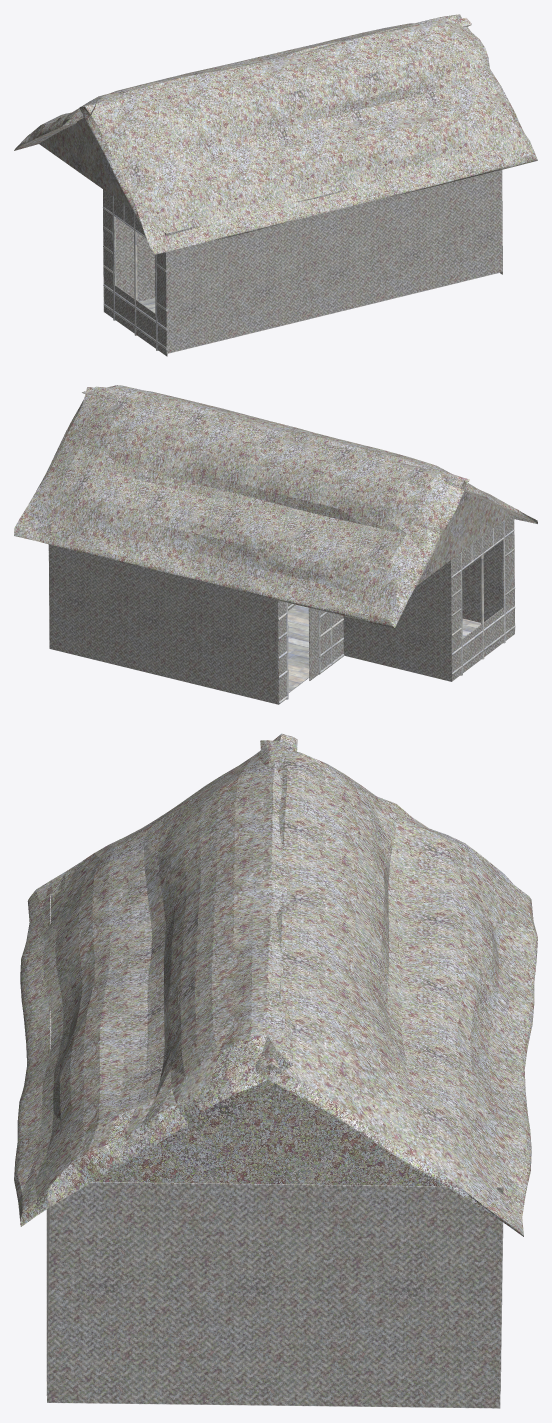
The picture shows the model from 3 angles, top to bottom: view 1: azimuth 30°, elevation 25°; view 2: azimuth 150°, elevation 25°; view 3: azimuth 270°, elevation 25°; orthographic projection. The views are drawn at different scales.
Parts seen in each view (by area): view 1: Meshpart2, LongWall6, LongWall1, Meshpart1, Wall1, Wall6, Wedge3, MidTile2, MidTile1, WindowDivider2, WindowDivider1, WindowDivider9 (+5 smaller); view 2: Meshpart1, Wall9, Wall8, Wall1, Wall2, Meshpart2, LongWall1, LongWall2, Wedge1, MidTile2, MidTile1, Door8 (+12 smaller); view 3: Wall20, Wall15, Meshpart1, Meshpart2, Wedge4, Wedge2.
Part boxes in pixels (x1,y1,x2,y2): Meshpart2: (79,14,537,254); LongWall6: (166,170,502,353); LongWall1: (165,170,502,353); Meshpart1: (14,17,471,150); Wall1: (103,190,155,311); Wall6: (104,218,155,301); Wedge3: (39,117,102,188); MidTile2: (104,280,166,356); MidTile1: (104,281,167,356); WindowDivider2: (103,209,114,286); WindowDivider1: (103,209,114,285); WindowDivider9: (155,252,165,323); Meshpart1: (14,387,469,627); Wall9: (49,544,278,704); Wall8: (49,545,278,704); Wall1: (343,560,452,681); Wall2: (343,560,451,681); Meshpart2: (82,385,537,523); LongWall1: (462,526,514,631); LongWall2: (462,541,514,622); Wedge1: (451,491,511,558); MidTile2: (452,603,514,680); MidTile1: (452,603,514,680); Door8: (309,608,343,680); Wall20: (47,1182,503,1408); Wall15: (47,1182,503,1408); Meshpart1: (255,740,537,1236); Meshpart2: (14,733,297,1226); Wedge4: (93,1079,274,1183); Wedge2: (273,1083,498,1186).
Size of the model in its own units: 41.79 by 22.27 by 27.68.
5 materials, 5 textured.
